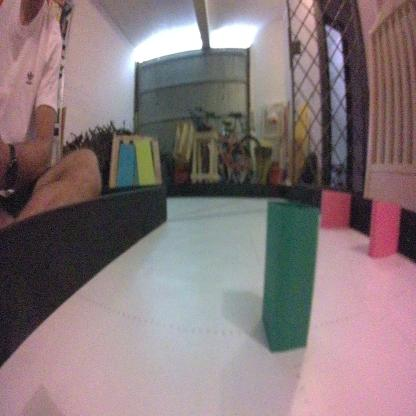green: (259, 198, 321, 366)
magenta: (368, 196, 401, 260), (321, 185, 353, 235)
